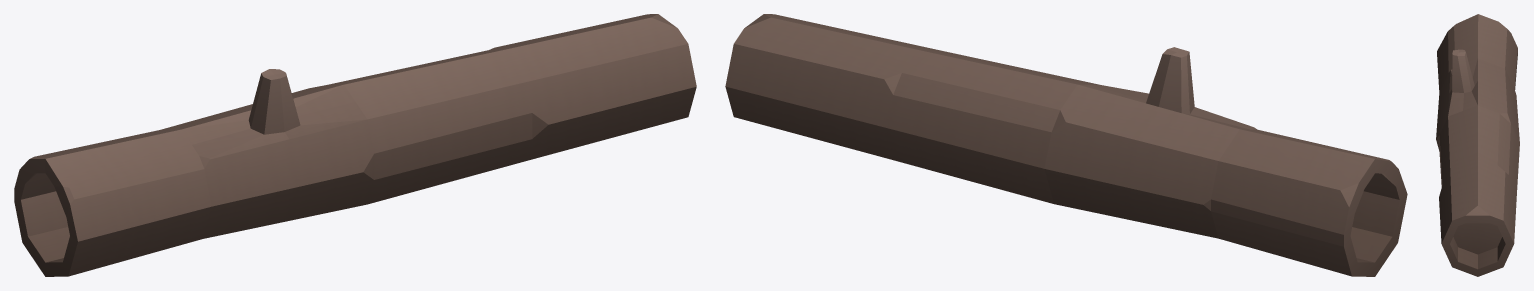
File: Log with Branch.fbx
3 views of the same model, side by side, from view 1: azimuth 30°, elevation 25°; view 2: azimuth 150°, elevation 25°; view 3: azimuth 270°, elevation 25° (orthographic). The views are drawn at different scales.
Parts seen in each view (by area): view 1: Circle; view 2: Circle; view 3: Circle.
Boxes of the visible parts, left/top/right/bottom form: Circle: left=14, top=14, right=696, bottom=276; Circle: left=725, top=14, right=1407, bottom=276; Circle: left=1436, top=14, right=1519, bottom=276.
Bounding box in the file's own units: 3365 × 844 × 619.
